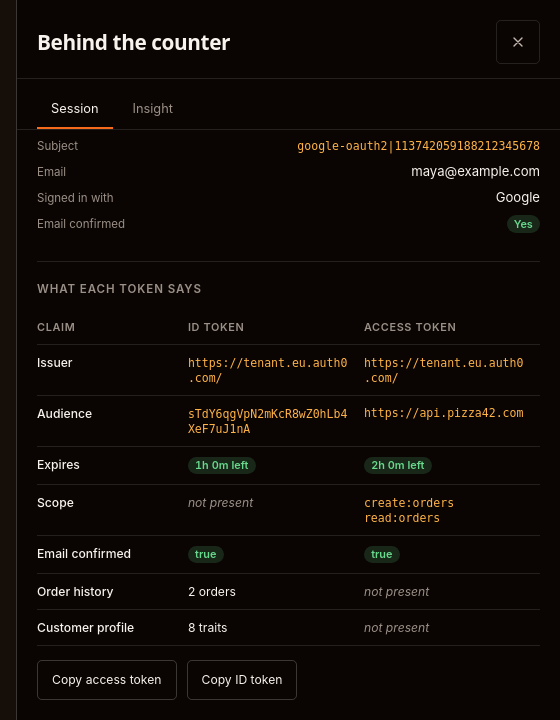
Behind the counter › hands the access token to the clipboard when asked
This screenshot has width=560, height=720.
(page scrolled)
Click the button "Copy access token": coordinates (107, 680) top-left (37, 660), bottom-right (176, 700)
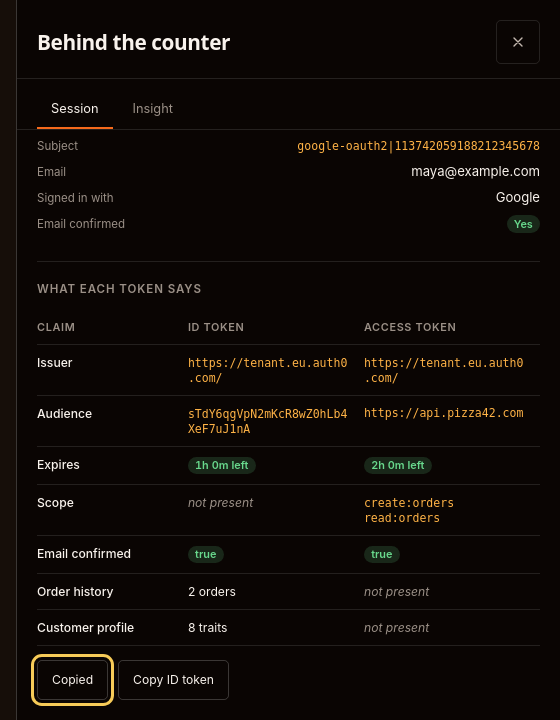
expect the button "Copied" is shown: met, box top-left (37, 660), bottom-right (108, 700)
